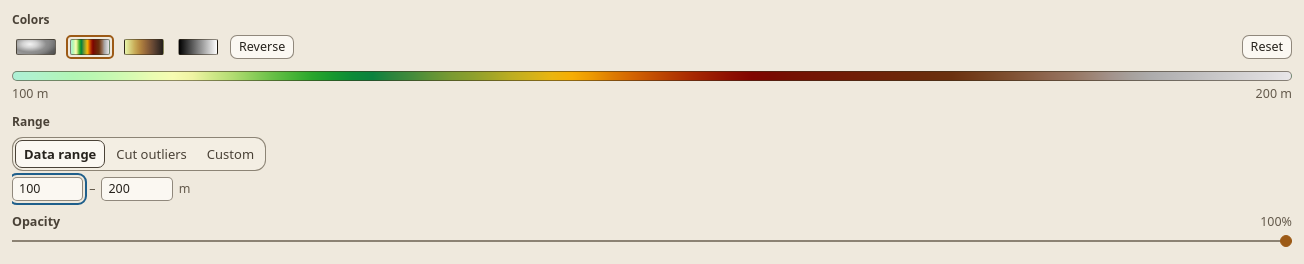
it: an open item's Range › keeps the field and its focus when an Enter commit or a new range in use lands, and a draft being typed
This screenshot has width=1304, height=264.
Replace the text in the field named "Minimum" with "150" at (48, 189), box [12,177,83,201]
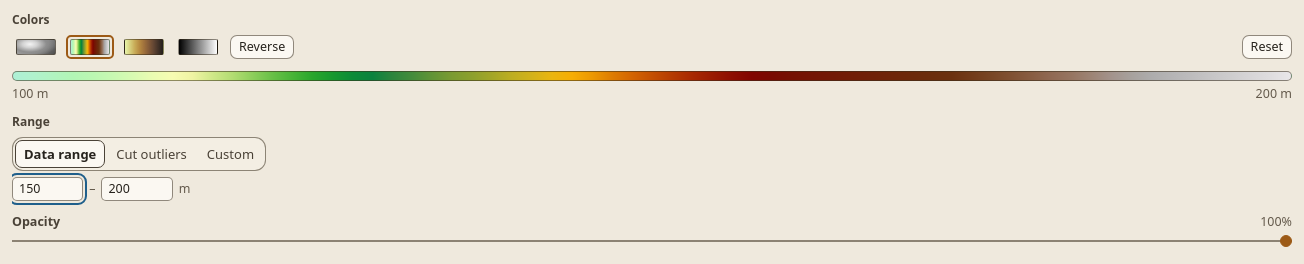
Press Enter in the field named "Minimum", box [12,177,83,201]
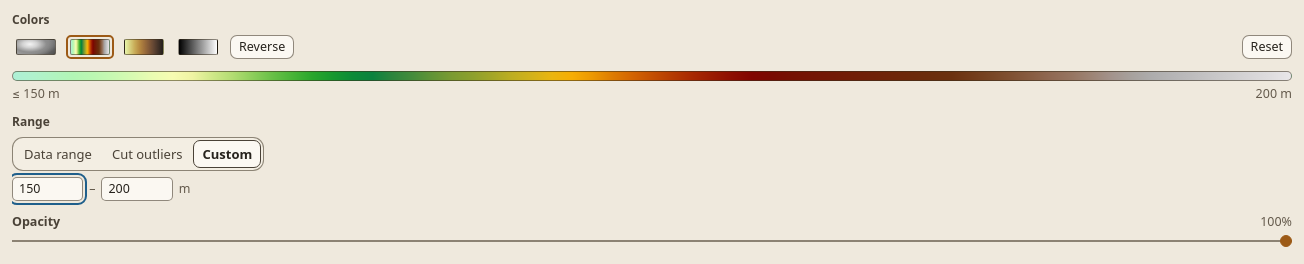
Replace the text in the field named "Maximum" with "18" at (137, 189), box [102,177,173,201]
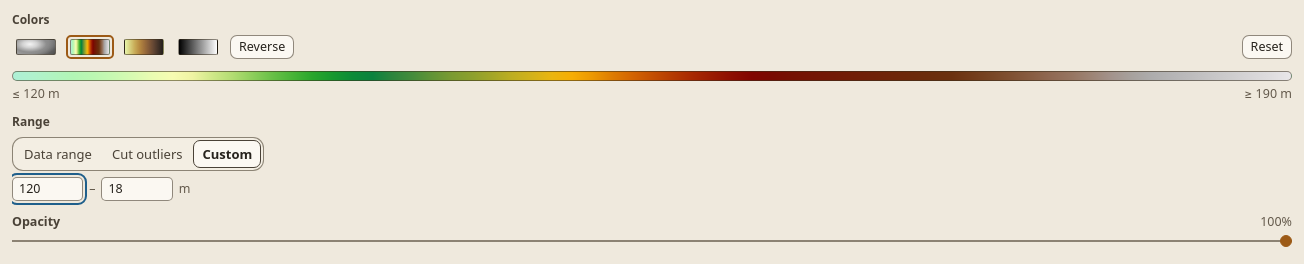
Now the field named "Minimum" holds "120", box [12,177,83,201]
